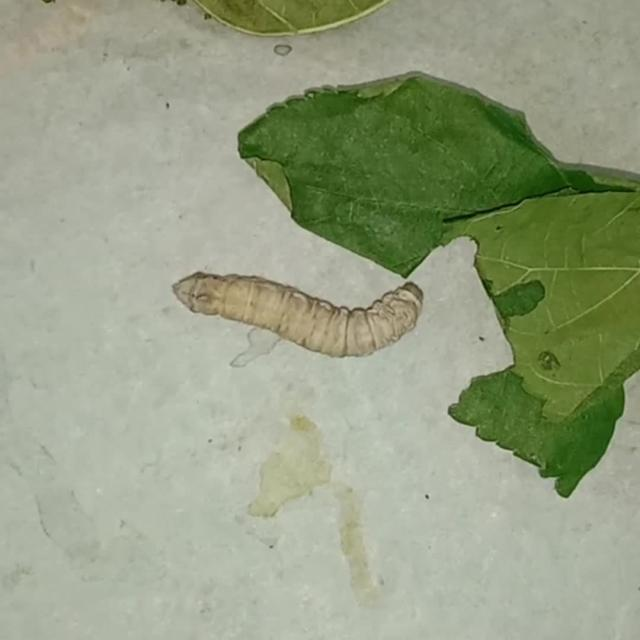Grasserie: (162, 250, 460, 376)
